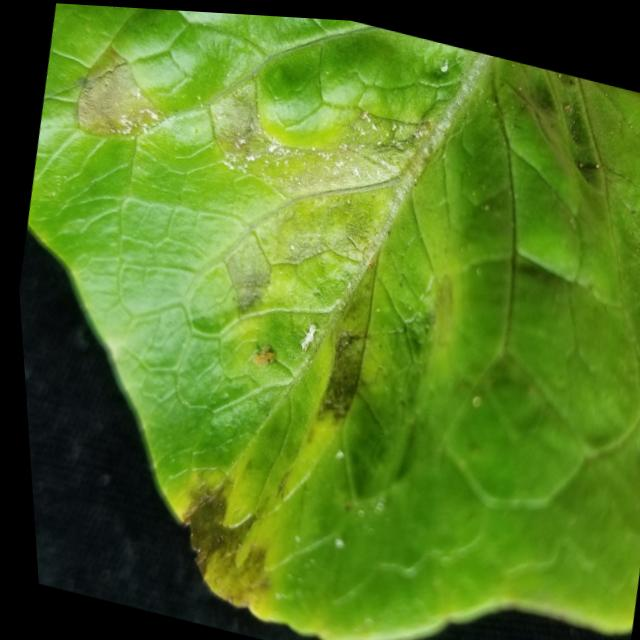Bad: (28, 3, 640, 640)
